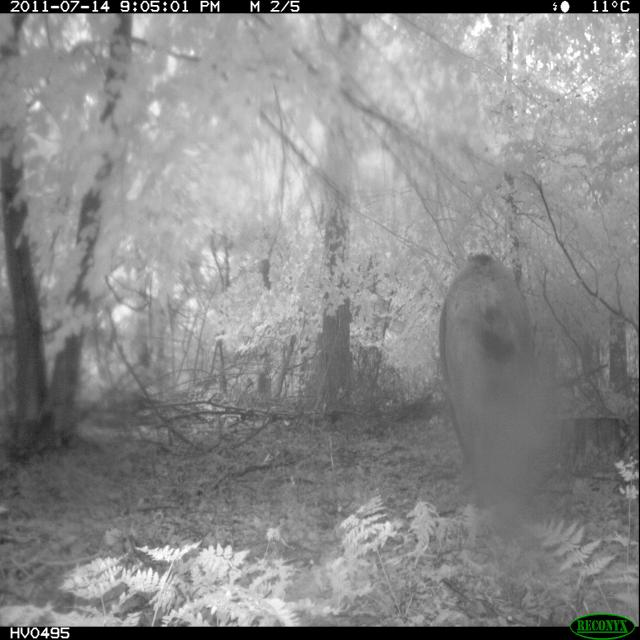boar: (402, 227, 578, 544)
